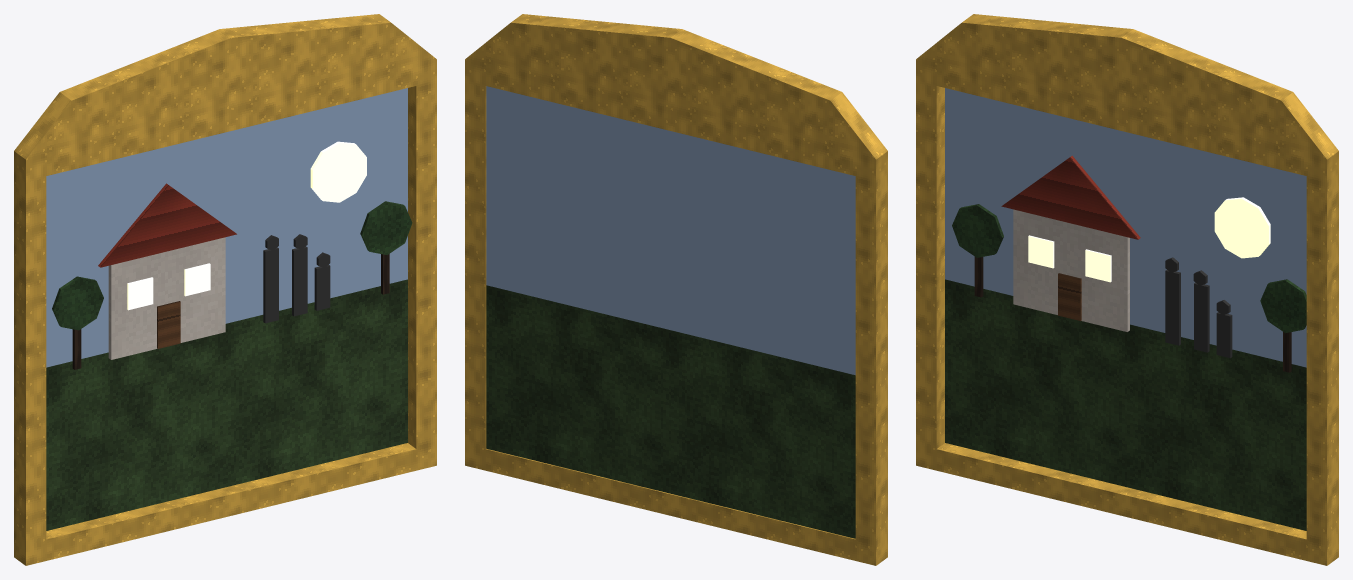
File: envy_window.glb
The picture shows the model from 3 angles, left to right: view 1: azimuth 30°, elevation 25°; view 2: azimuth 150°, elevation 25°; view 3: azimuth 330°, elevation 25°; orthographic projection.
Visible parts, largest first — view 1: envy_window; view 2: envy_window; view 3: envy_window.
Part boxes in pixels (left/top/right/bottom): envy_window: left=14, top=14, right=436, bottom=565; envy_window: left=465, top=14, right=887, bottom=565; envy_window: left=916, top=14, right=1338, bottom=565.
Size of what is drawn, in the model's own units: 3.6 by 4 by 0.18.
Materials: 11 (7 with a texture image).
